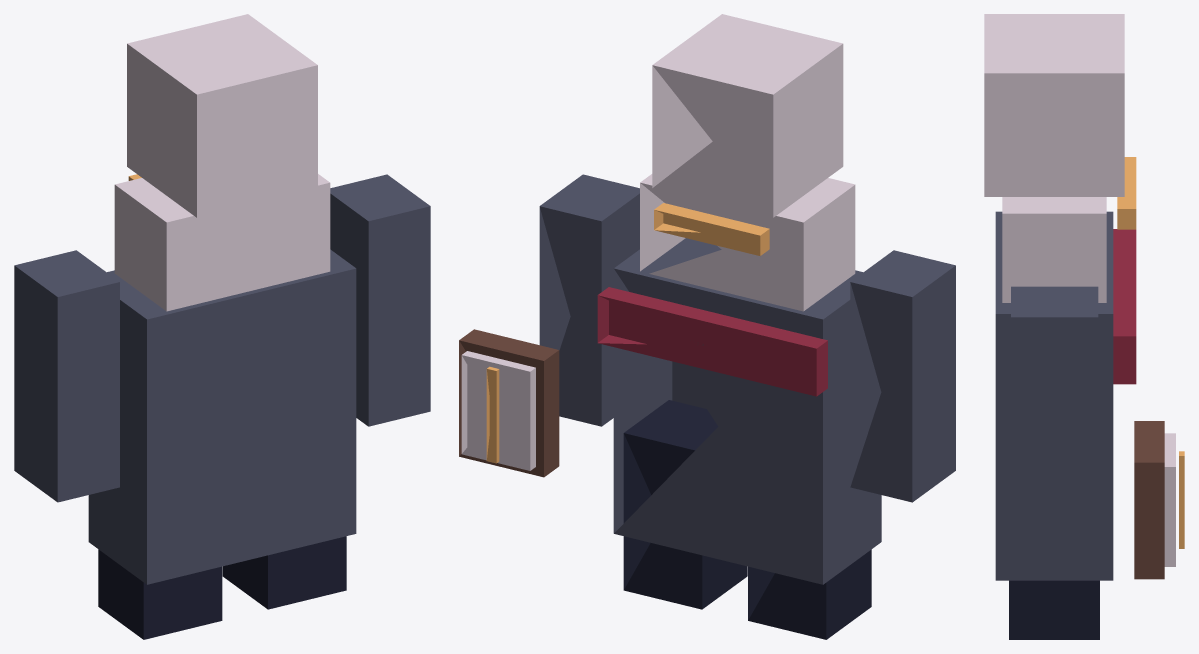
File: KGB_NPC_CityArchivist_STATIC_DRAFT_v02.obj
3 renders of one model, left to right at view 1: azimuth 30°, elevation 25°; view 2: azimuth 150°, elevation 25°; view 3: azimuth 270°, elevation 25°, orthographic.
Visible parts, largest first — view 1: CityArchivist; view 2: CityArchivist; view 3: CityArchivist.
Part boxes in pixels (bbox=[...]): CityArchivist: bbox=[14, 14, 430, 639]; CityArchivist: bbox=[459, 14, 955, 639]; CityArchivist: bbox=[984, 14, 1184, 639].
Size of the model in its own units: 2.57 by 3.18 by 1.06.
